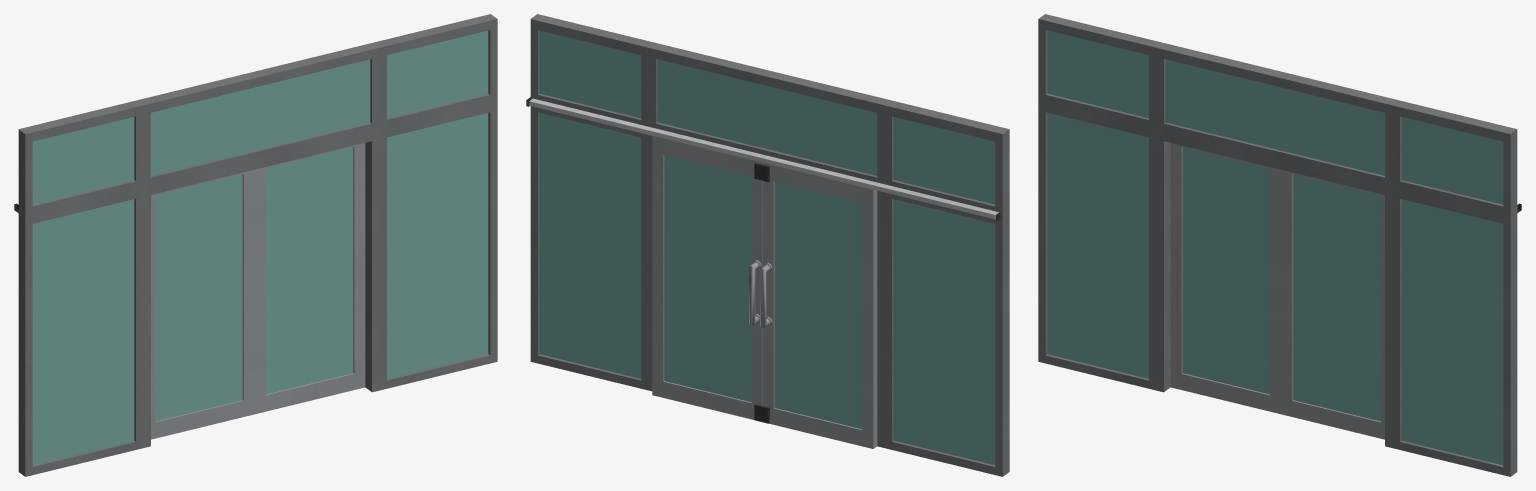
The model's file is horrorlibraryGLASSDOOR.glb.
3 views of the same model, side by side, from view 1: azimuth 30°, elevation 25°; view 2: azimuth 150°, elevation 25°; view 3: azimuth 330°, elevation 25° (orthographic).
Visible parts, largest first — view 1: DoorEntrance.001, DoorEntrance.022, DoorEntrance.021, DoorEntrance.003, DoorEntrance.015, DoorEntrance.002, DoorEntrance.016, DoorEntrance_1; view 2: DoorEntrance.001, DoorEntrance.022, DoorEntrance.003, DoorEntrance.021, DoorEntrance.015, DoorEntrance.002, DoorEntrance.016, DoorEntrance.019, DoorEntrance_1; view 3: DoorEntrance.022, DoorEntrance.001, DoorEntrance.003, DoorEntrance.021, DoorEntrance.015, DoorEntrance.016, DoorEntrance.002, DoorEntrance_1.
Boxes of the visible parts, x1,y1,x2,y2 form: DoorEntrance.001: (18,189,143,476); DoorEntrance.022: (379,102,497,390); DoorEntrance.021: (254,143,365,414); DoorEntrance.003: (151,170,254,439); DoorEntrance.015: (137,43,379,188); DoorEntrance.002: (18,100,143,217); DoorEntrance.016: (373,14,497,130); DoorEntrance_1: (143,131,379,447); DoorEntrance.001: (884,192,1009,476); DoorEntrance.022: (530,106,648,390); DoorEntrance.003: (760,163,877,448); DoorEntrance.021: (652,136,762,421); DoorEntrance.015: (648,43,890,184); DoorEntrance.002: (884,100,1009,217); DoorEntrance.016: (530,14,654,126); DoorEntrance.019: (526,97,1002,221); DoorEntrance_1: (648,135,884,447); DoorEntrance.022: (1392,189,1517,476); DoorEntrance.001: (1038,102,1156,390); DoorEntrance.003: (1170,143,1281,414); DoorEntrance.021: (1281,170,1384,439); DoorEntrance.015: (1156,43,1398,188); DoorEntrance.016: (1392,100,1517,217); DoorEntrance.002: (1038,14,1162,130); DoorEntrance_1: (1156,131,1392,447).
Size of the model in its own units: 4 by 2.77 by 0.2449.
Materials: 1 (1 with a texture image).
